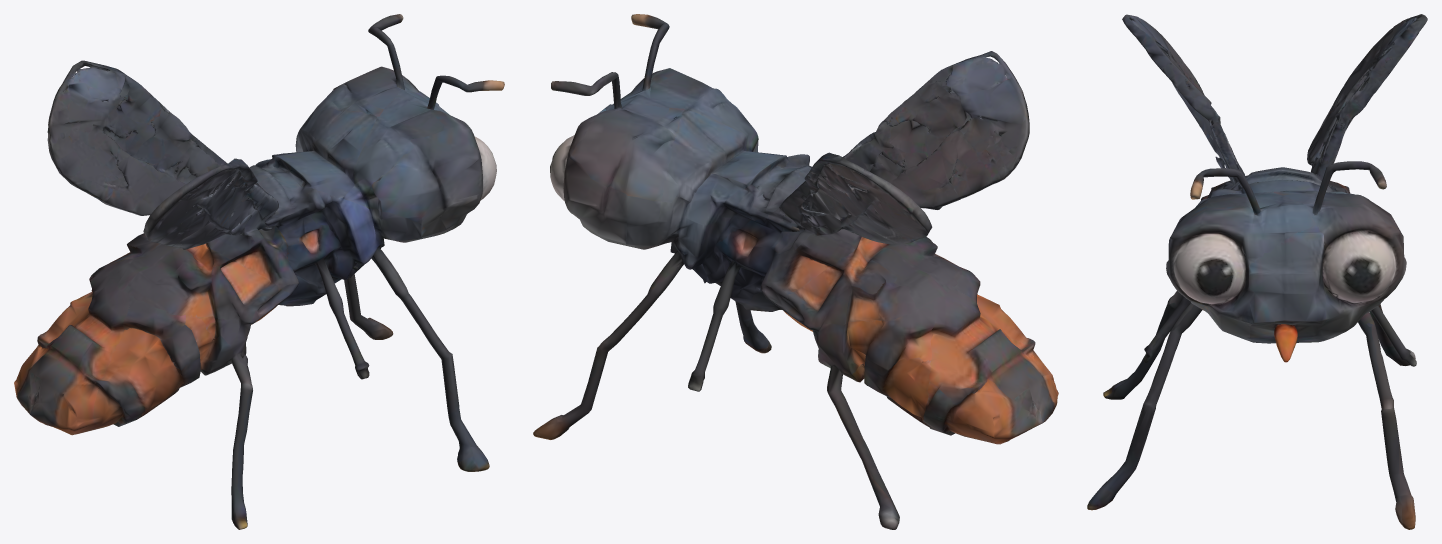
The model's file is mosquito-web.glb.
The picture shows the model from 3 angles, left to right: view 1: azimuth 30°, elevation 25°; view 2: azimuth 150°, elevation 25°; view 3: azimuth 270°, elevation 25°; orthographic projection. The views are drawn at different scales.
Visible parts, largest first — view 1: tripo_node_18b7aad8-3d73-46c1-bb12-d81899509326; view 2: tripo_node_18b7aad8-3d73-46c1-bb12-d81899509326; view 3: tripo_node_18b7aad8-3d73-46c1-bb12-d81899509326.
Boxes of the visible parts, x1,y1,x2,y2 form: tripo_node_18b7aad8-3d73-46c1-bb12-d81899509326: (14,14,504,529); tripo_node_18b7aad8-3d73-46c1-bb12-d81899509326: (533,14,1058,529); tripo_node_18b7aad8-3d73-46c1-bb12-d81899509326: (1087,14,1427,529).
Bounding box in the file's own units: 0.9999 × 0.7546 × 0.6183.
1 material, 1 textured.
